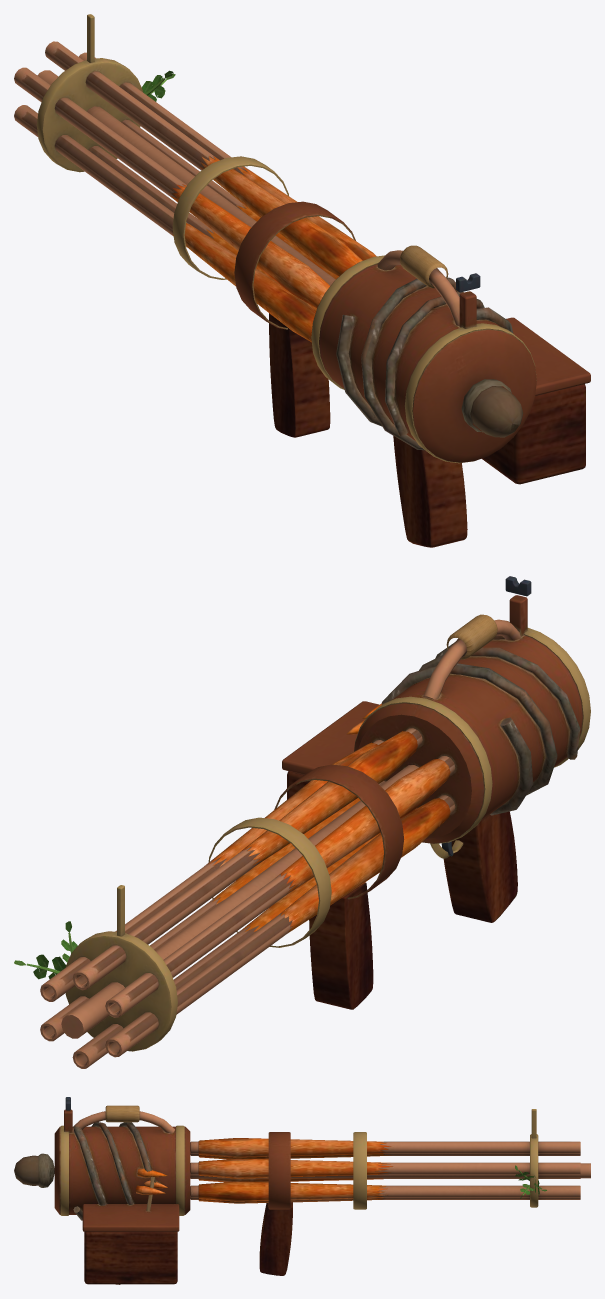
Rendered from root_rumbler.glb.
3 renders of one model, top to bottom at view 1: azimuth 30°, elevation 25°; view 2: azimuth 150°, elevation 25°; view 3: azimuth 270°, elevation 25°, orthographic. The views are drawn at different scales.
Parts seen in each view (by area): view 1: root_rumbler; view 2: root_rumbler; view 3: root_rumbler.
Boxes of the visible parts, x1,y1,x2,y2 form: root_rumbler: [14, 14, 590, 547]; root_rumbler: [14, 576, 590, 1068]; root_rumbler: [14, 1097, 590, 1284].
Bounding box in the file's own units: 0.1733 × 0.2339 × 0.68.
Materials: 1 (1 with a texture image).
